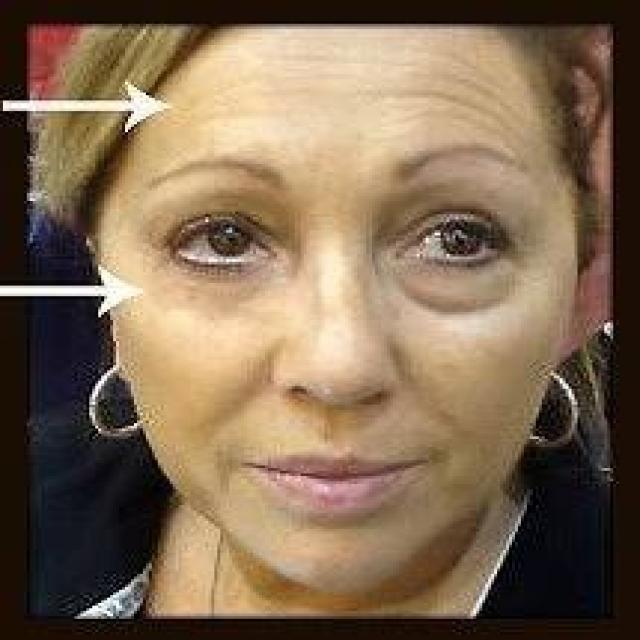Puffy Eyes - v3 Dark Circle: (388, 266, 530, 324), (159, 262, 286, 318)
